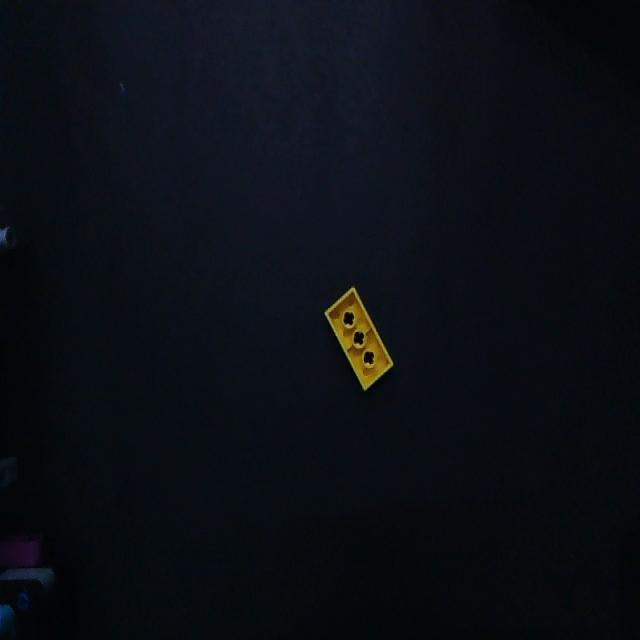lego_brick: (325, 287, 392, 389)
